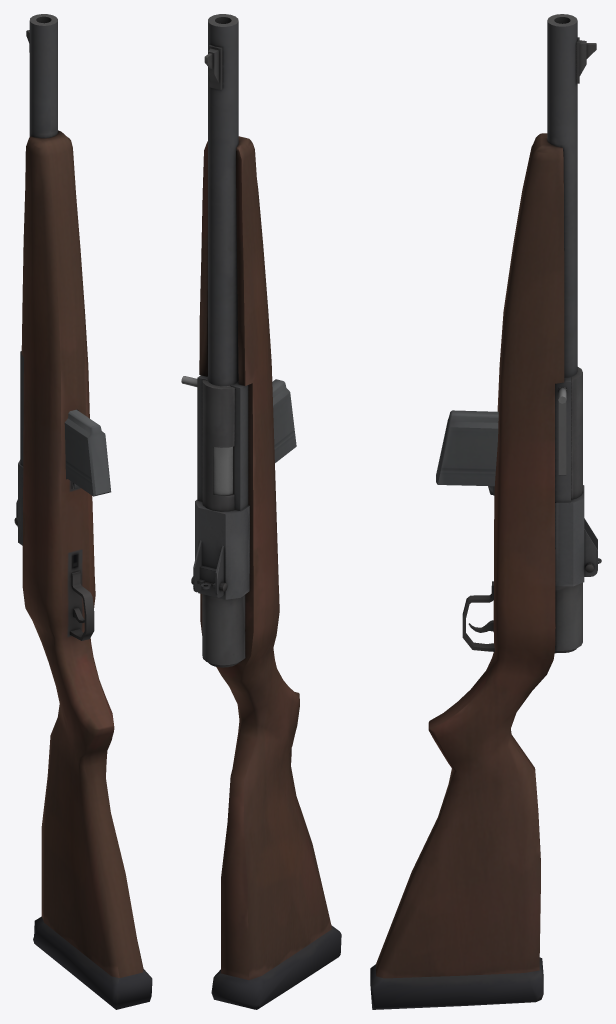
File: rifle.obj
3 renders of one model, left to right at view 1: azimuth 30°, elevation 25°; view 2: azimuth 150°, elevation 25°; view 3: azimuth 270°, elevation 25°, orthographic. The views are drawn at different scales.
Visible parts, largest first — view 1: Rifle; view 2: Rifle; view 3: Rifle.
Part boxes in pixels (x1,y1,x2,y2): Rifle: [14, 14, 152, 1009]; Rifle: [181, 14, 341, 1009]; Rifle: [370, 14, 601, 1009].
Bounding box in the file's own units: 3.96 × 54.19 × 11.57.
Materials: 1 (1 with a texture image).
